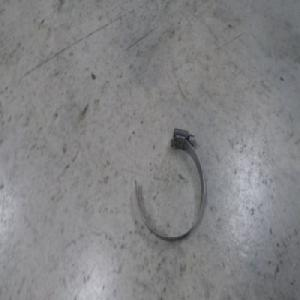AdjustableClamp: (138, 128, 207, 244)
